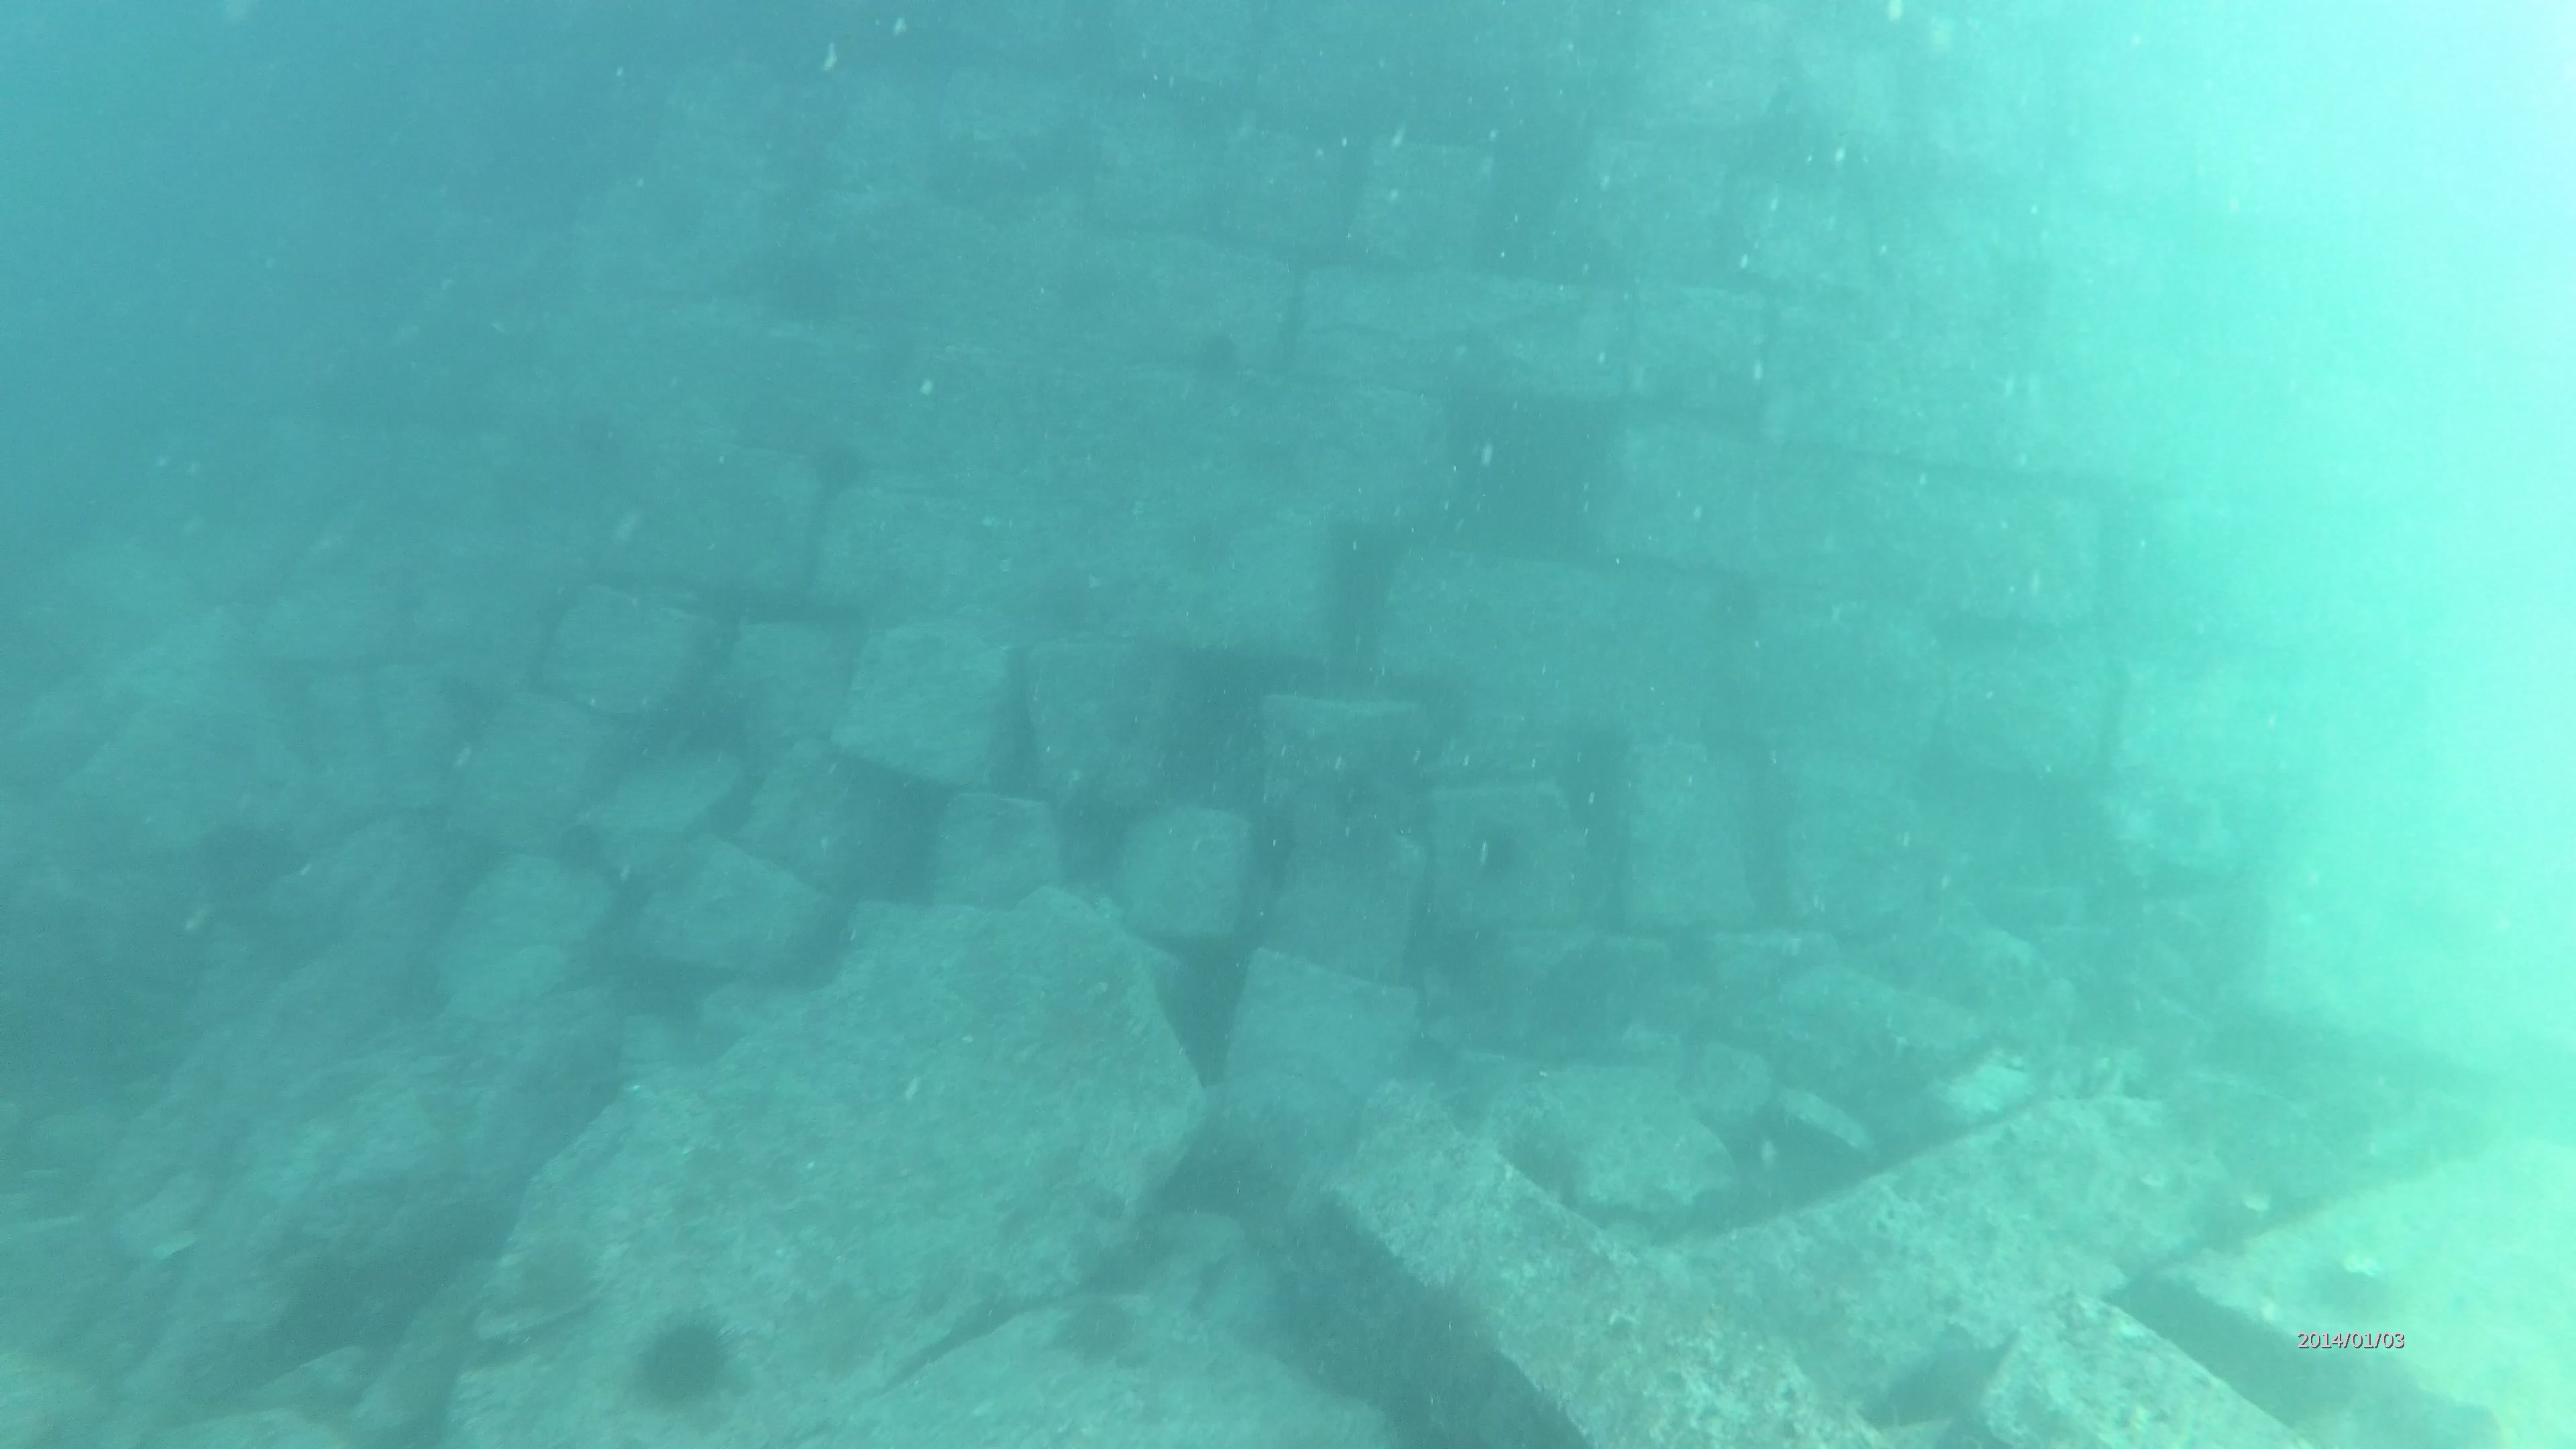echinus: (633, 1315, 743, 1421)
